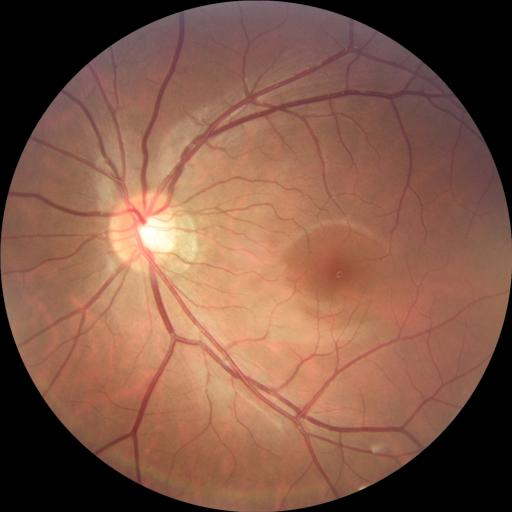Optic Cup: (139, 216, 175, 252)
Optic Disc: (108, 190, 178, 272)
